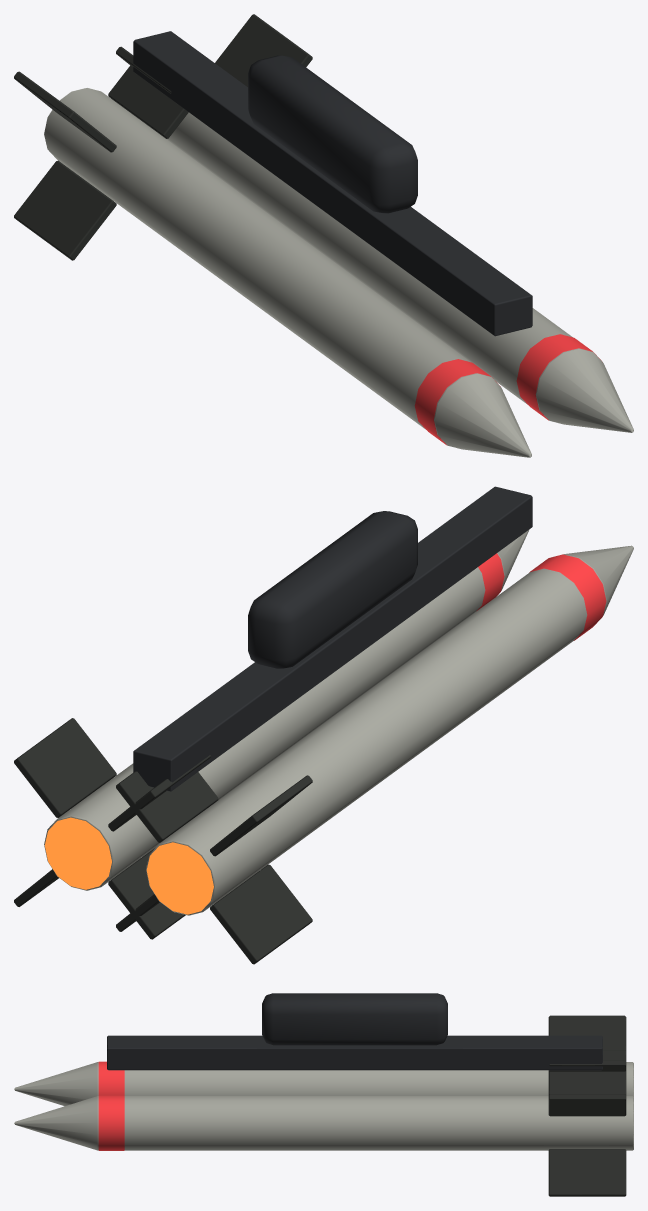
The model's file is Rack_HomingMissiles.fbx.
The picture shows the model from 3 angles, top to bottom: view 1: azimuth 30°, elevation 25°; view 2: azimuth 150°, elevation 25°; view 3: azimuth 270°, elevation 25°; orthographic projection. The views are drawn at different scales.
Parts seen in each view (by area): view 1: Rack_HomingMissiles; view 2: Rack_HomingMissiles; view 3: Rack_HomingMissiles.
Boxes of the visible parts, bbox=[...] form: Rack_HomingMissiles: bbox=[14, 14, 633, 457]; Rack_HomingMissiles: bbox=[14, 486, 633, 964]; Rack_HomingMissiles: bbox=[14, 993, 633, 1196].
Bounding box in the file's own units: 0.6222 × 0.5711 × 2.
